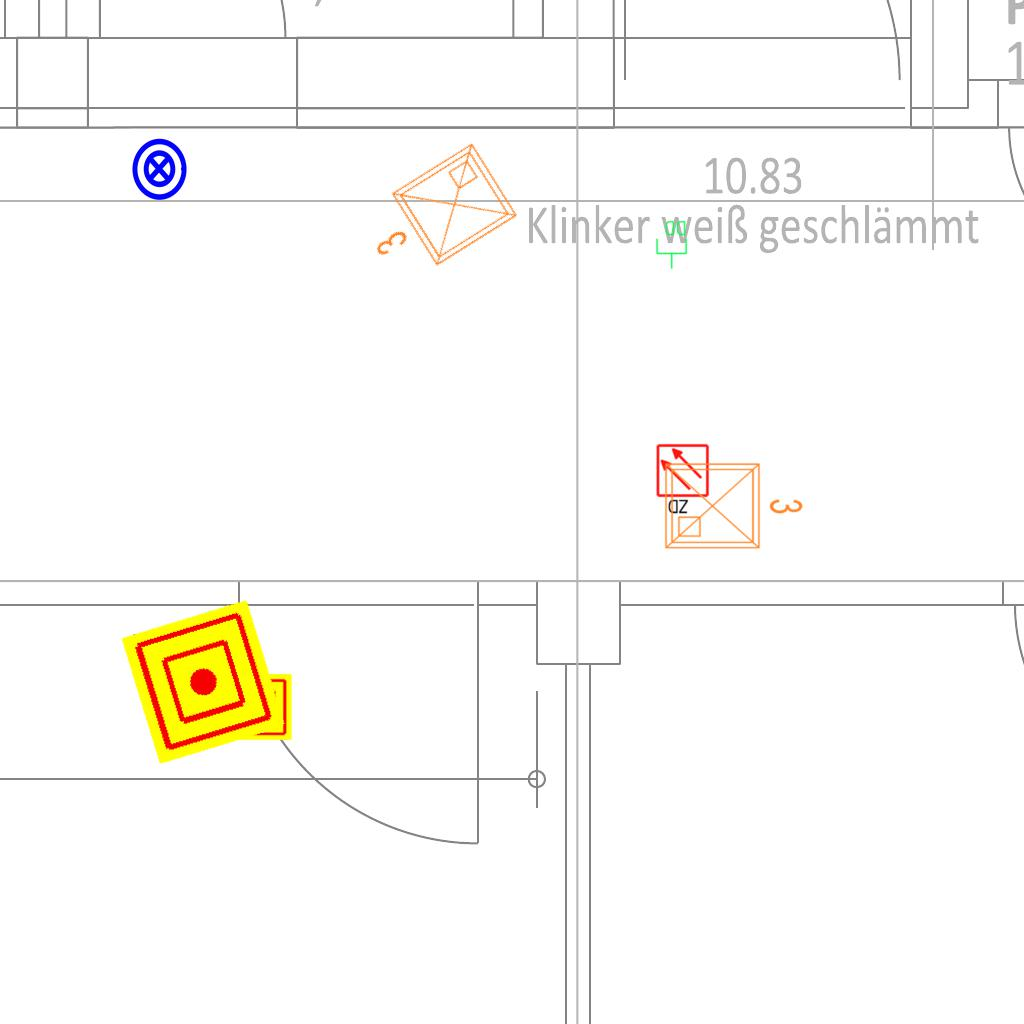Datenanschluss_zweifach: (655, 219, 689, 270)
Einbaudownlights_LED_Konferenzraeume: (346, 133, 530, 301), (658, 452, 808, 556)
NAM-Nichtautomatischer_Melder: (120, 599, 286, 765), (226, 674, 292, 740)
Taster_beleuchtet: (126, 136, 192, 202)
ZD_Melder_in_Zwischendecke_mit_Revisionsoeffnung_mind_40_x_40_cm: (655, 443, 712, 517)
